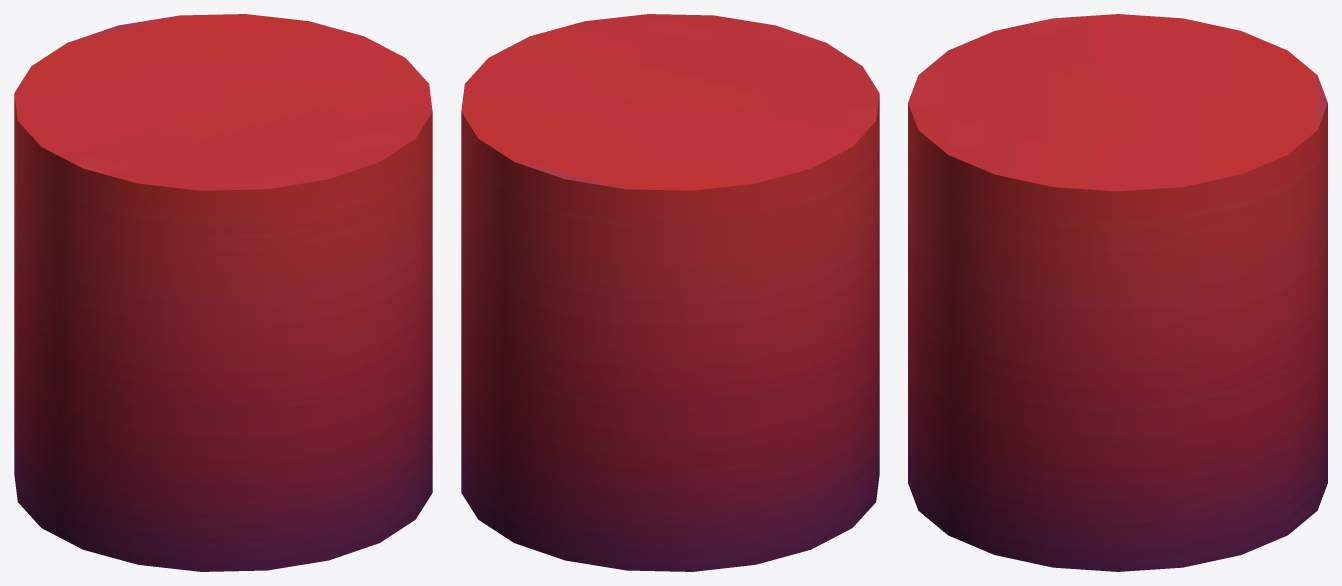
The model's file is zhuzi.fbx.
3 views of the same model, side by side, from view 1: azimuth 30°, elevation 25°; view 2: azimuth 150°, elevation 25°; view 3: azimuth 270°, elevation 25° (orthographic).
Visible parts, largest first — view 1: pCylinder1; view 2: pCylinder1; view 3: pCylinder1.
Part boxes in pixels (box(x1,y1,x2,y2)): pCylinder1: box(14, 14, 432, 571); pCylinder1: box(461, 14, 879, 571); pCylinder1: box(908, 14, 1327, 571).
Bounding box in the file's own units: 196 × 196 × 196.
Materials: 1 (1 with a texture image).
